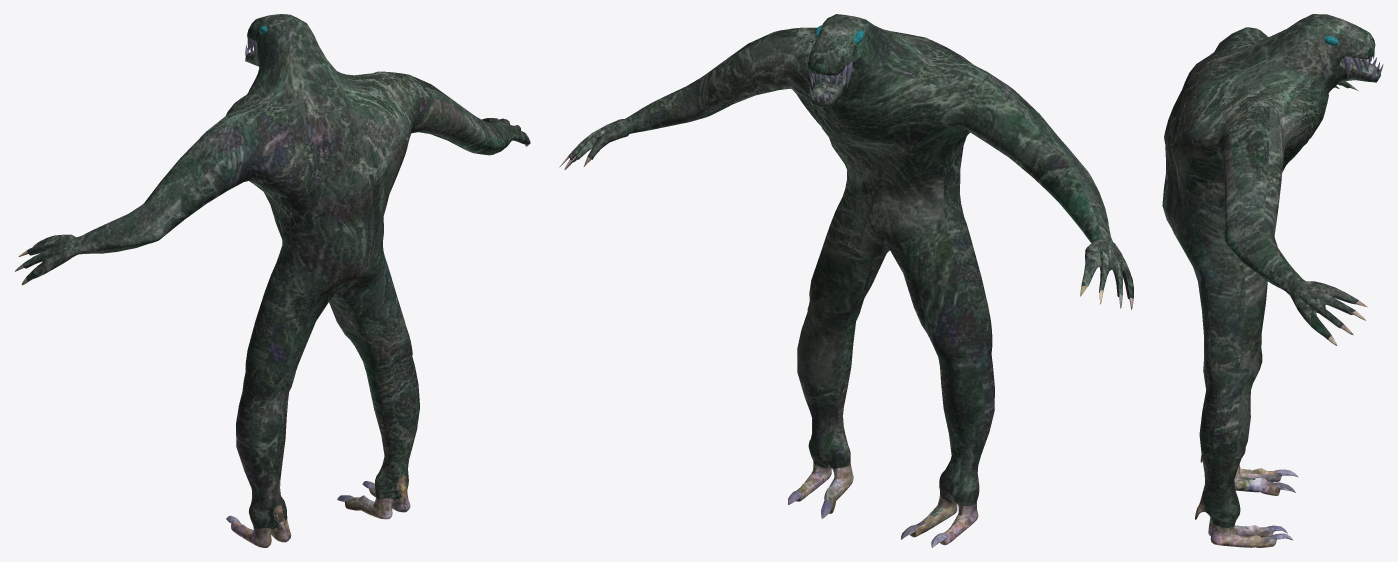
Rendered from Aranar.0002.obj.
3 renders of one model, left to right at view 1: azimuth 30°, elevation 25°; view 2: azimuth 150°, elevation 25°; view 3: azimuth 270°, elevation 25°, orthographic. The views are drawn at different scales.
Visible parts, largest first — view 1: polySurface28; view 2: polySurface28; view 3: polySurface28.
Part boxes in pixels (left/top/right/bottom): polySurface28: left=14, top=14, right=530, bottom=547; polySurface28: left=559, top=14, right=1133, bottom=547; polySurface28: left=1162, top=14, right=1383, bottom=547.
Size of the model in its own units: 2.59 by 2.33 by 0.9324.
4 materials, 4 textured.
